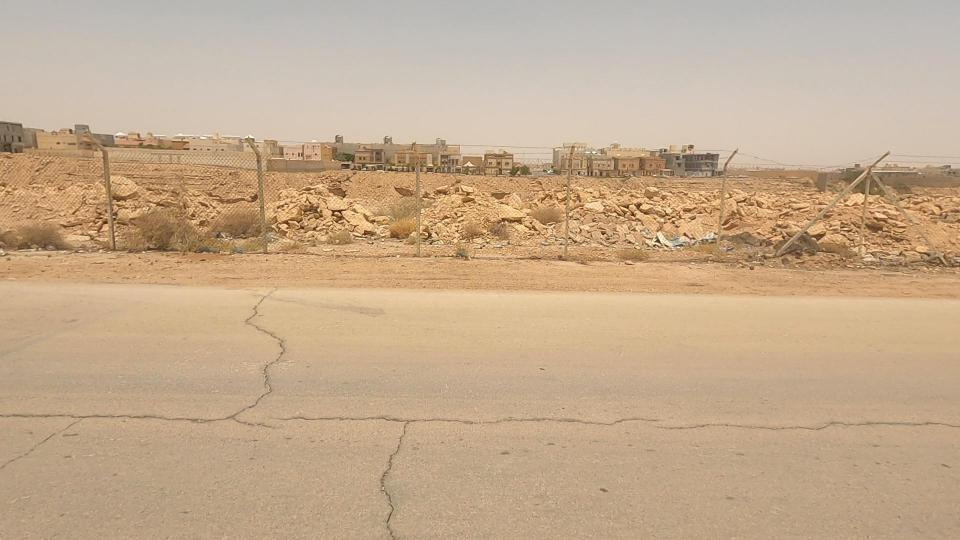GARBAGE: (592, 199, 762, 276)
